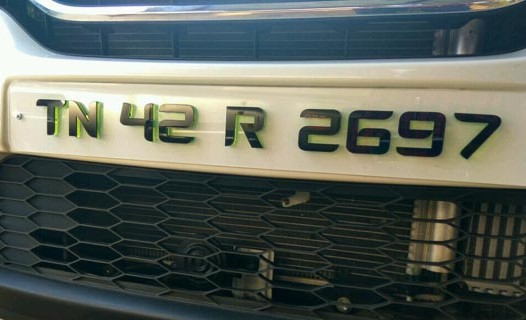TN42R2697: (7, 79, 526, 187)
